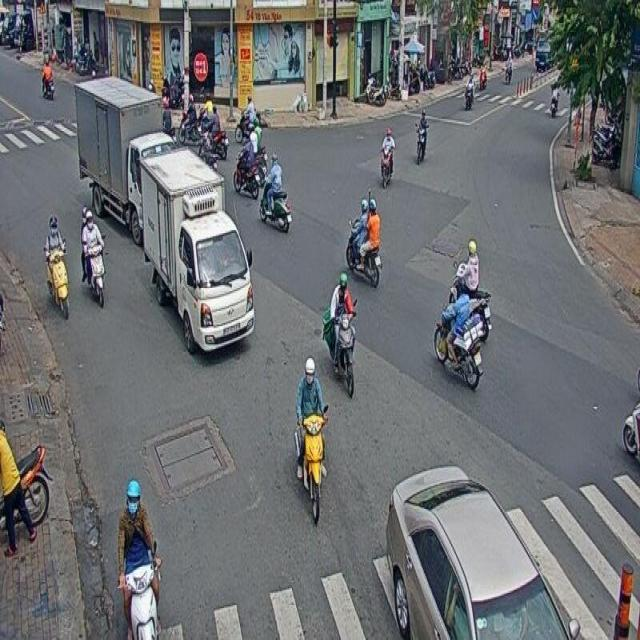car: (386, 465, 580, 640)
motorcycle: (116, 480, 162, 640), (294, 357, 329, 524), (433, 277, 483, 390), (323, 272, 357, 398), (346, 198, 382, 290), (42, 214, 68, 322), (80, 204, 106, 310), (258, 154, 292, 235), (232, 134, 258, 201), (379, 128, 395, 190), (414, 108, 429, 166)
truck: (141, 148, 254, 353), (75, 76, 172, 244)
